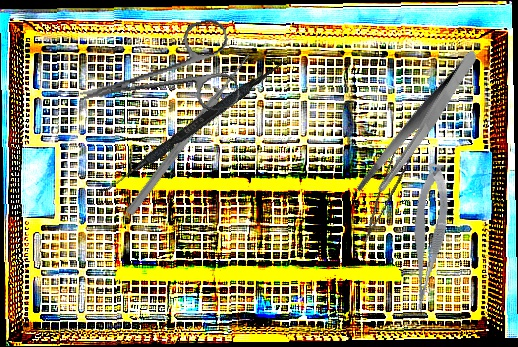Dressing Forceps: (330, 48, 509, 204)
Iris Scissors: (70, 16, 242, 138)
Micro Scissor: (394, 161, 460, 314)
Pusher: (124, 51, 254, 218)
Spatula Surgical: (99, 52, 289, 201)
Tissue Forceps: (347, 133, 422, 243)
